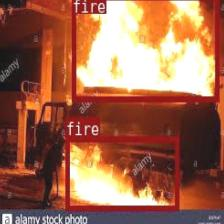fire: (70, 0, 219, 100), (65, 136, 179, 210)
